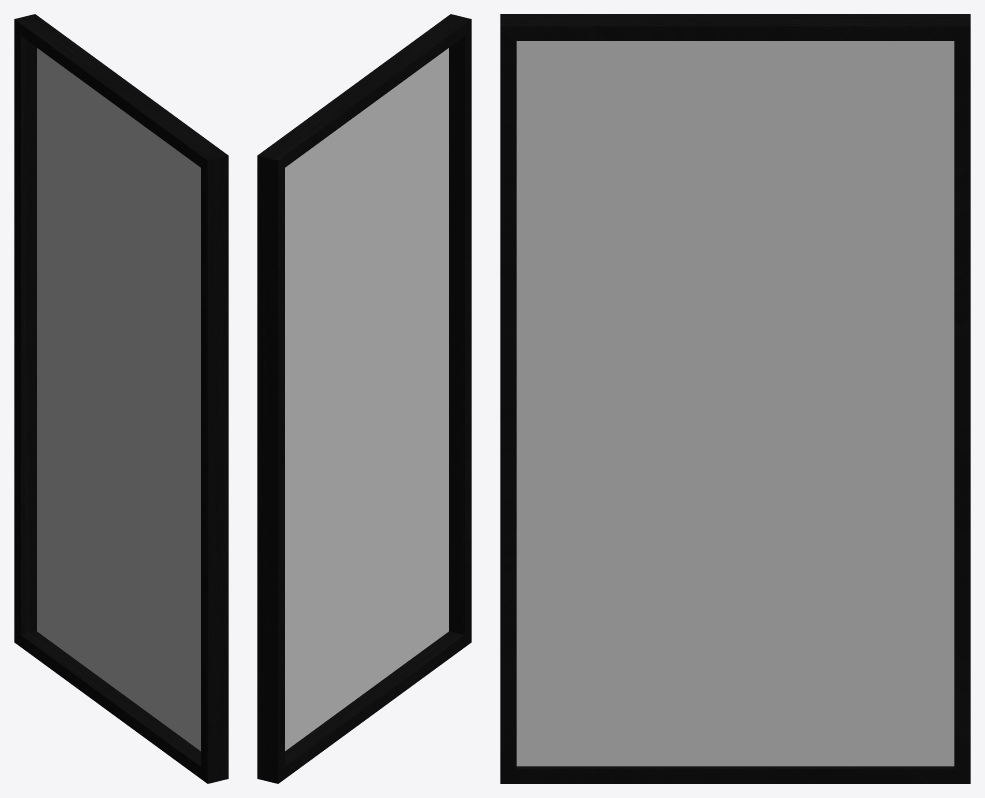
Rendered from dressroom_window.fbx.
3 views of the same model, side by side, from view 1: azimuth 30°, elevation 25°; view 2: azimuth 150°, elevation 25°; view 3: azimuth 270°, elevation 25° (orthographic). The views are drawn at different scales.
Parts seen in each view (by area): view 1: pCube12; view 2: pCube12; view 3: pCube12.
Part boxes in pixels (bbox=[...]): pCube12: bbox=[14, 14, 228, 783]; pCube12: bbox=[257, 14, 471, 783]; pCube12: bbox=[500, 14, 970, 783].
Size of the model in its own units: 0.00363 by 0.1033 by 0.0581.
Materials: 2 (1 with a texture image).
